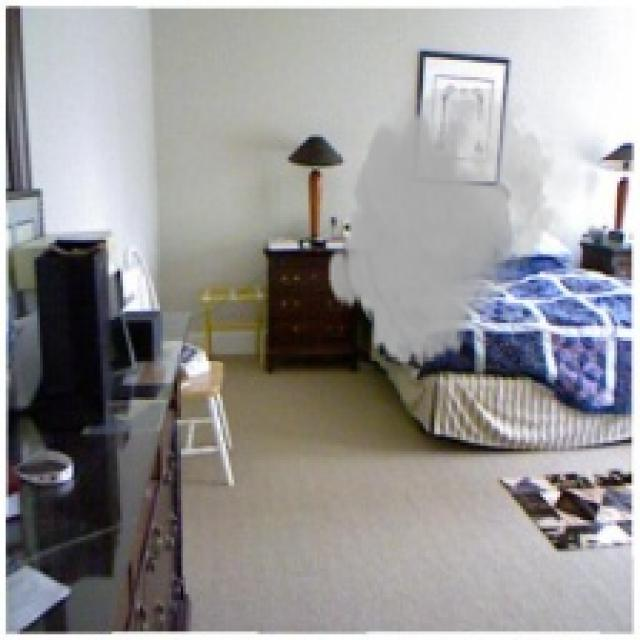smoke: (326, 88, 563, 372)
